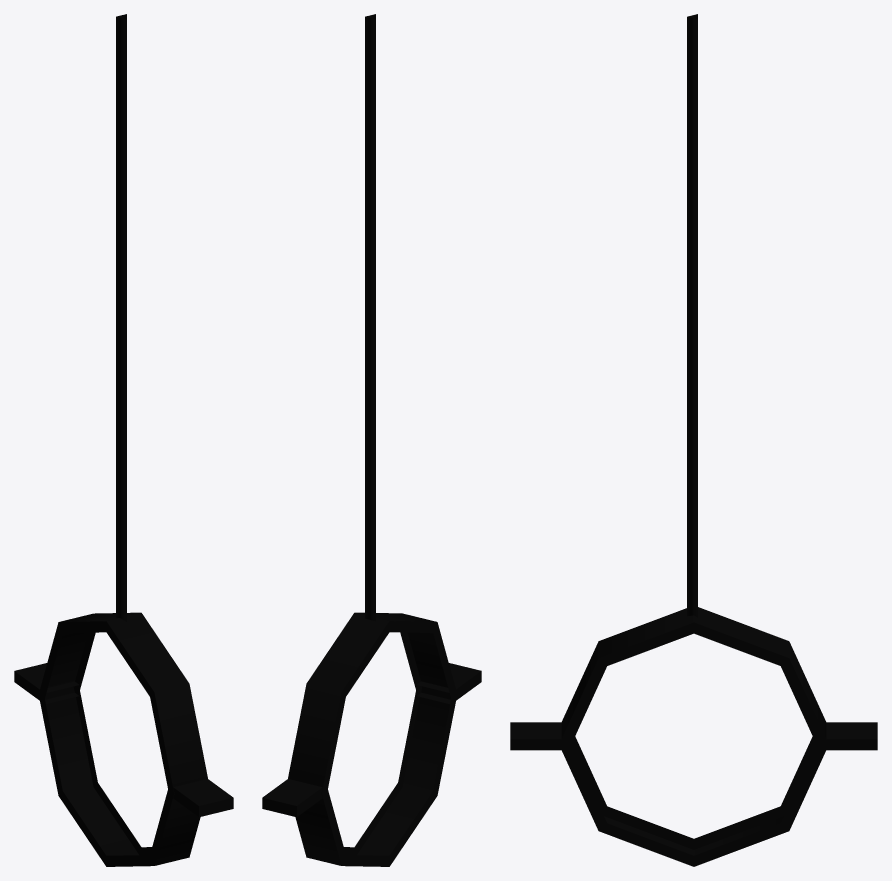
File: MountBig.FBX
3 views of the same model, side by side, from view 1: azimuth 30°, elevation 25°; view 2: azimuth 150°, elevation 25°; view 3: azimuth 270°, elevation 25° (orthographic).
Parts seen in each view (by area): view 1: MountBig; view 2: MountBig; view 3: MountBig.
Part boxes in pixels (x1,y1,x2,y2): MountBig: [14, 14, 233, 866]; MountBig: [262, 14, 481, 866]; MountBig: [510, 14, 877, 866].
Bounding box in the file's own units: 0.6474 × 14.9 × 5.9.
